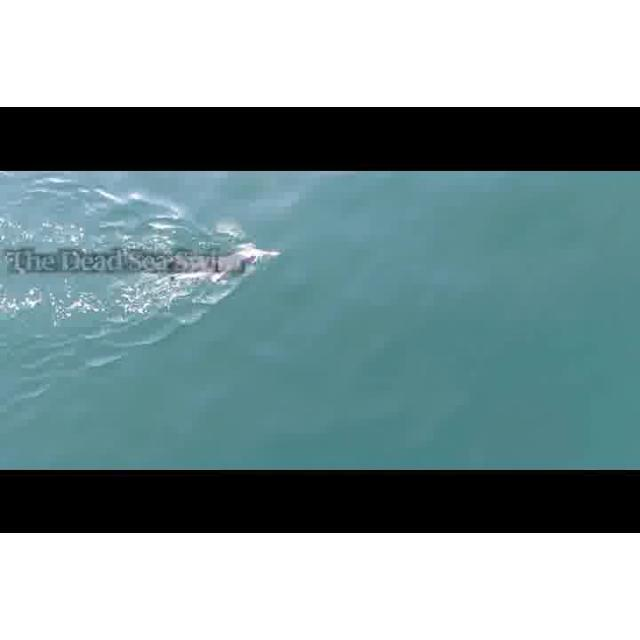human: (175, 247, 283, 283)
